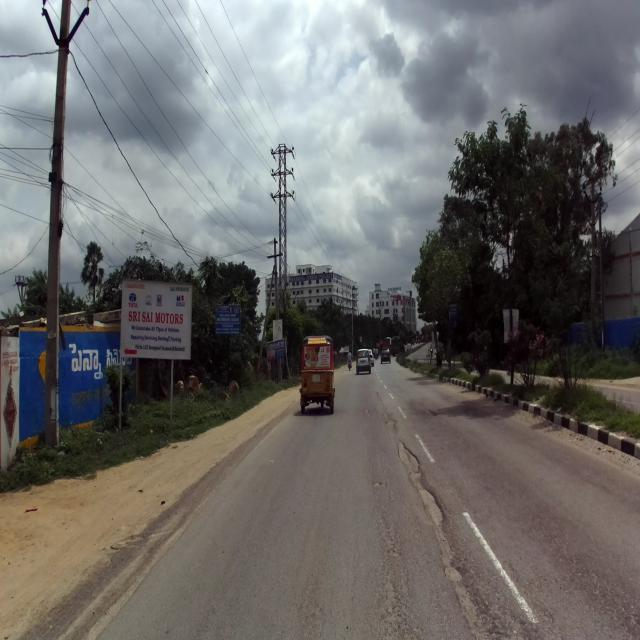pothole: (384, 403, 513, 640)
